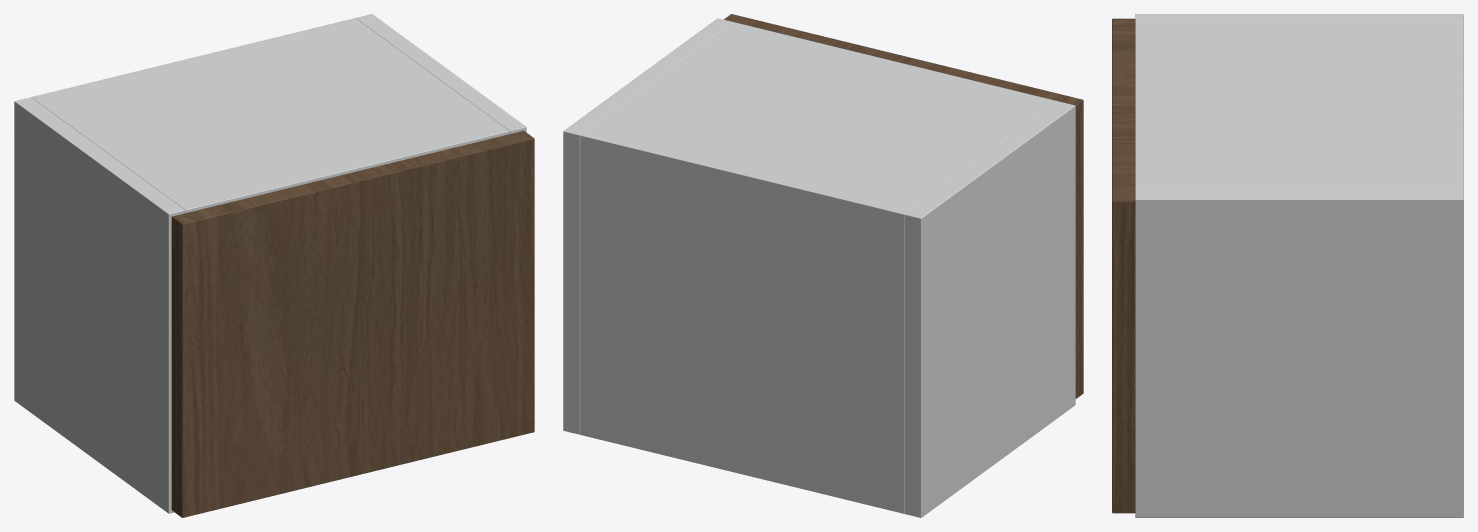
File: oppein-ply-mso-w1512.glb
The picture shows the model from 3 angles, left to right: view 1: azimuth 30°, elevation 25°; view 2: azimuth 150°, elevation 25°; view 3: azimuth 270°, elevation 25°; orthographic projection. The views are drawn at different scales.
Parts seen in each view (by area): view 1: Door, Cabinet side, Cabinet top, Cabinet side.001, Cabinet back; view 2: Cabinet back, Cabinet side, Cabinet top, Cabinet side.001, Door, Cabinet bottom; view 3: Cabinet side.001, Cabinet top, Door, Cabinet side, Cabinet back.
Boxes of the visible parts, box(x1,y1,x2,y2) form: Door: box(171, 130, 534, 517); Cabinet side: box(14, 97, 185, 513); Cabinet top: box(37, 22, 509, 213); Cabinet side.001: box(356, 14, 526, 133); Cabinet back: box(31, 18, 360, 101); Cabinet back: box(580, 131, 909, 513); Cabinet side: box(904, 101, 1075, 517); Cabinet top: box(580, 22, 1058, 231); Cabinet side.001: box(563, 18, 733, 434); Door: box(724, 14, 1083, 398); Cabinet bottom: box(580, 418, 904, 513); Cabinet side.001: box(1135, 191, 1463, 517); Cabinet top: box(1135, 22, 1463, 190); Door: box(1112, 18, 1135, 513); Cabinet side: box(1135, 14, 1463, 22); Cabinet back: box(1450, 22, 1463, 190).
Size of the model in its own units: 0.381 by 0.3048 by 0.3048.
2 materials, 1 textured.
